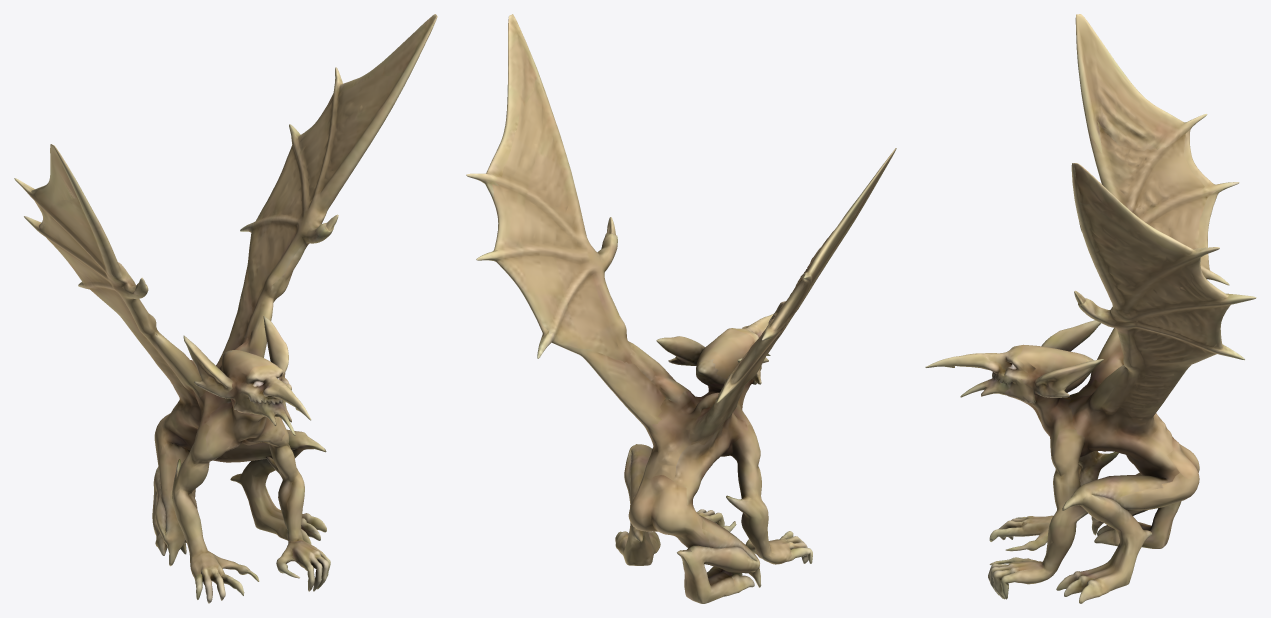
File: MZ4250 - Dust Mephit_1 2025.glb
The picture shows the model from 3 angles, left to right: view 1: azimuth 30°, elevation 25°; view 2: azimuth 150°, elevation 25°; view 3: azimuth 270°, elevation 25°; orthographic projection.
Parts seen in each view (by area): view 1: Cylinder.001; view 2: Cylinder.001; view 3: Cylinder.001.
Part boxes in pixels (x1,y1,x2,y2): Cylinder.001: [14, 14, 437, 603]; Cylinder.001: [466, 14, 896, 603]; Cylinder.001: [925, 14, 1256, 603].
Bounding box in the file's own units: 83.5 × 106 × 62.39.
Materials: 1 (1 with a texture image).
